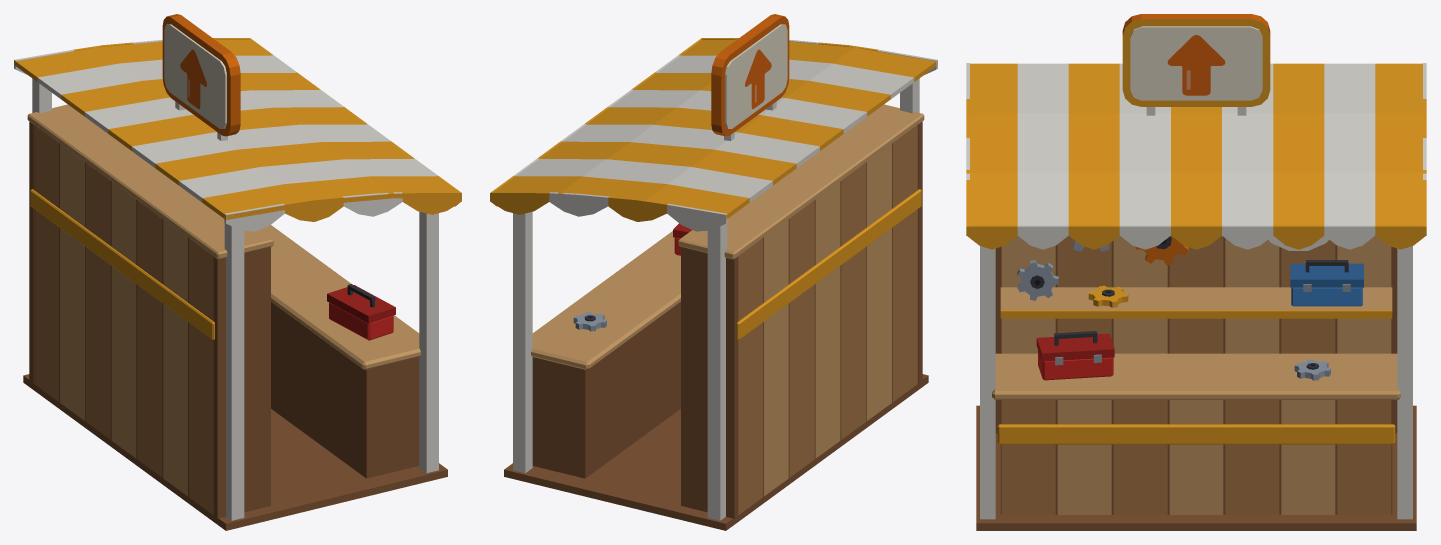
File: stall_upgrades.glb
3 renders of one model, left to right at view 1: azimuth 30°, elevation 25°; view 2: azimuth 150°, elevation 25°; view 3: azimuth 270°, elevation 25°, orthographic. The views are drawn at different scales.
Parts seen in each view (by area): view 1: StallUpgrades; view 2: StallUpgrades; view 3: StallUpgrades.
Part boxes in pixels (<box>): StallUpgrades: <box>14,14,461,530</box>; StallUpgrades: <box>490,14,937,530</box>; StallUpgrades: <box>966,14,1426,530</box>.
Bounding box in the file's own units: 2.08 × 3.4 × 3.24.
